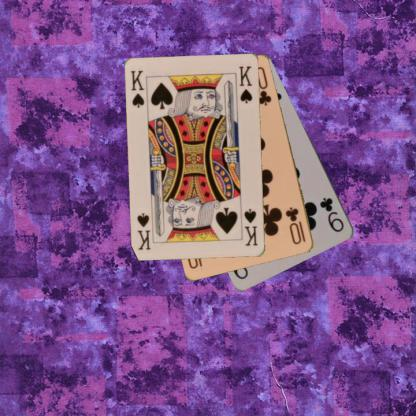10c: (283, 204, 307, 246)
9c: (317, 195, 346, 234)
Ks: (241, 206, 259, 247), (128, 68, 146, 109)
